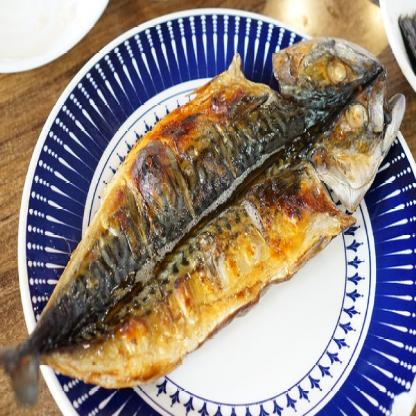Peixe: (0, 22, 412, 404)
